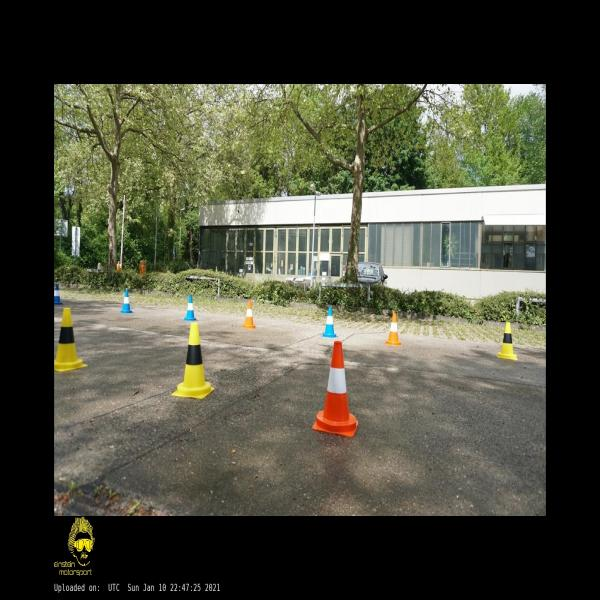blue_cone: (320, 306, 338, 338), (119, 290, 133, 314), (183, 296, 196, 320), (54, 284, 64, 305)
orange_cone: (312, 341, 359, 437), (385, 312, 401, 346), (242, 299, 256, 329)
yellow_cone: (172, 323, 215, 398), (54, 308, 87, 372), (496, 322, 518, 360)
